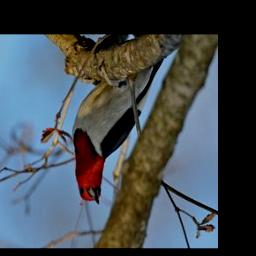Woodpecker: (67, 41, 170, 213)
